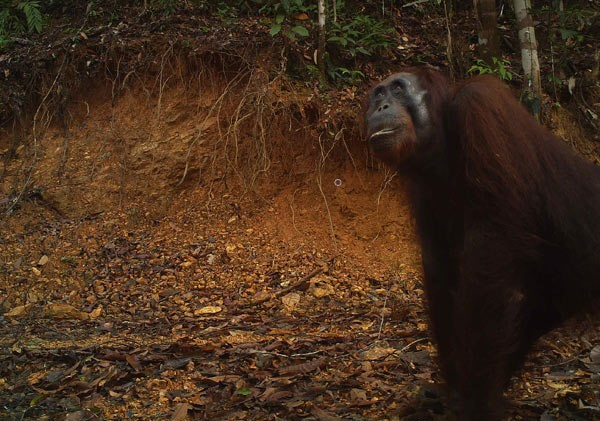Orangutan: (359, 73, 600, 349)
